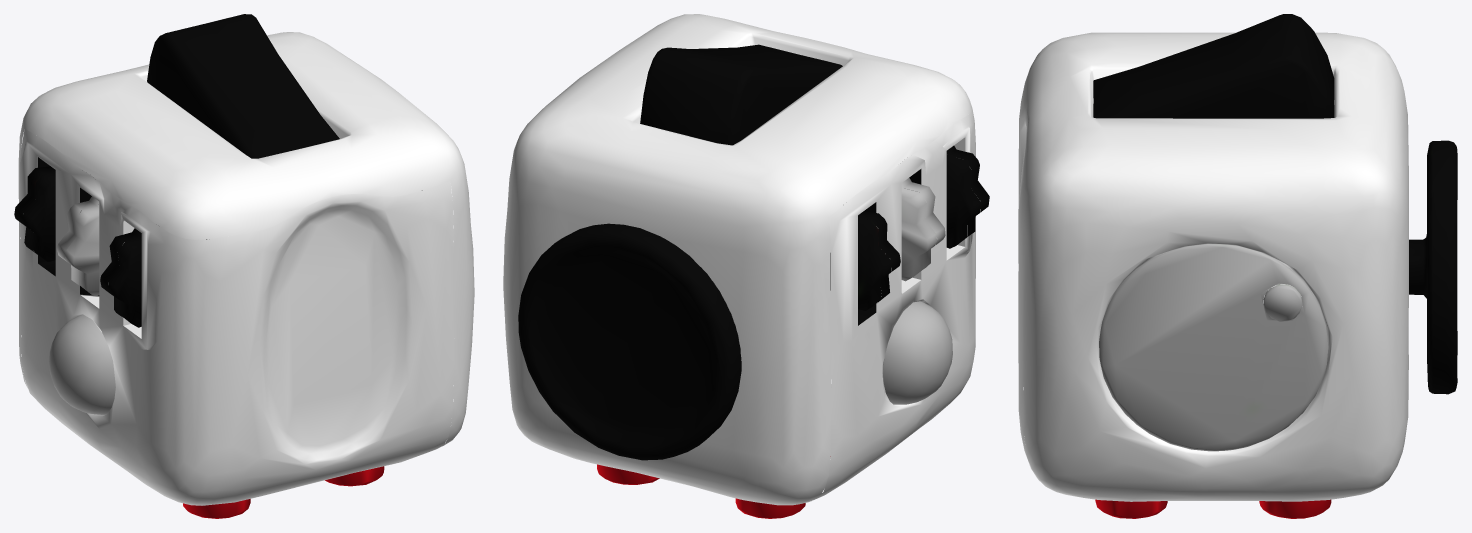
3 renders of one model, left to right at view 1: azimuth 30°, elevation 25°; view 2: azimuth 150°, elevation 25°; view 3: azimuth 270°, elevation 25°, orthographic. The views are drawn at different scales.
Visible parts, largest first — view 1: Mesh_0; view 2: Mesh_0; view 3: Mesh_0.
Part boxes in pixels (x1,y1,x2,y2): Mesh_0: [14, 14, 474, 518]; Mesh_0: [503, 14, 989, 518]; Mesh_0: [1018, 14, 1457, 518].
Bounding box in the file's own units: 1.57 × 1.74 × 1.59.
Materials: 1 (1 with a texture image).
